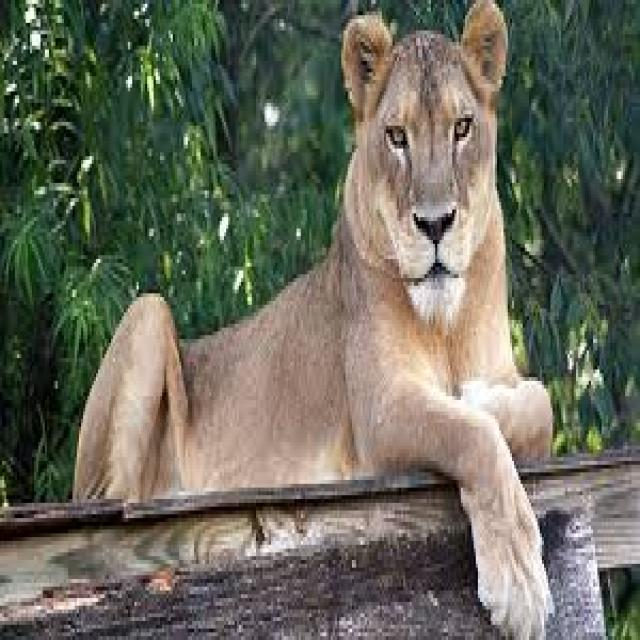Lion: (73, 3, 553, 636)
